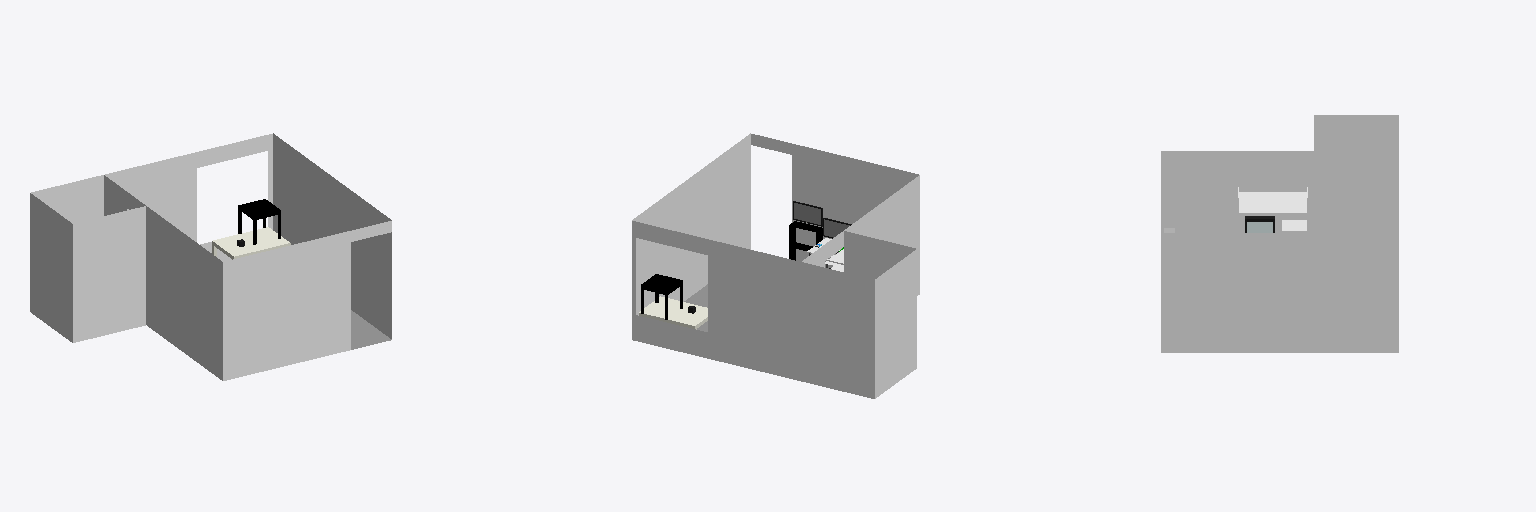
3 views of the same model, side by side, from view 1: azimuth 30°, elevation 25°; view 2: azimuth 150°, elevation 25°; view 3: azimuth 270°, elevation 25° (orthographic).
Visible parts, largest first — view 1: SketchUp_ID3.002, SketchUp.174_ID589_SketchUp.174_ID589_material_0, SketchUp.011_ID112_SketchUp.011_ID112_Steve_Edges, SketchUp_ID3.003; view 2: SketchUp_ID3.002, SketchUp.174_ID589_SketchUp.174_ID589_material_0, SketchUp.011_ID112_SketchUp.011_ID112_Steve_Edges, SketchUp_ID3.001; view 3: SketchUp_ID3.002, instance_0_ID5.
Part boxes in pixels (bbox=[...]): SketchUp_ID3.002: bbox=[30, 133, 391, 380]; SketchUp.174_ID589_SketchUp.174_ID589_material_0: bbox=[212, 227, 290, 259]; SketchUp.011_ID112_SketchUp.011_ID112_Steve_Edges: bbox=[238, 199, 280, 244]; SketchUp_ID3.003: bbox=[351, 310, 391, 349]; SketchUp_ID3.002: bbox=[632, 133, 919, 398]; SketchUp.174_ID589_SketchUp.174_ID589_material_0: bbox=[639, 296, 707, 329]; SketchUp.011_ID112_SketchUp.011_ID112_Steve_Edges: bbox=[641, 274, 682, 319]; SketchUp_ID3.001: bbox=[789, 221, 822, 260]; SketchUp_ID3.002: bbox=[1161, 115, 1398, 352]; instance_0_ID5: bbox=[1238, 187, 1307, 232].
Bounding box in the file's own units: 6.88 × 2.38 × 4.27.